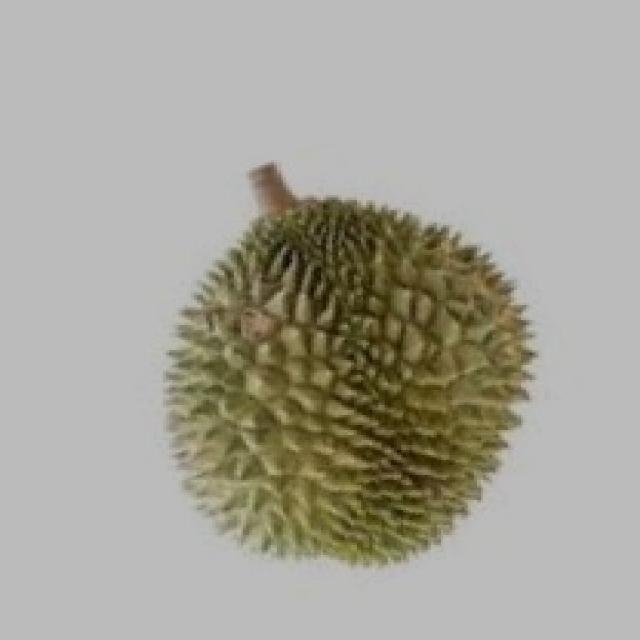fruit: (114, 198, 514, 612)
